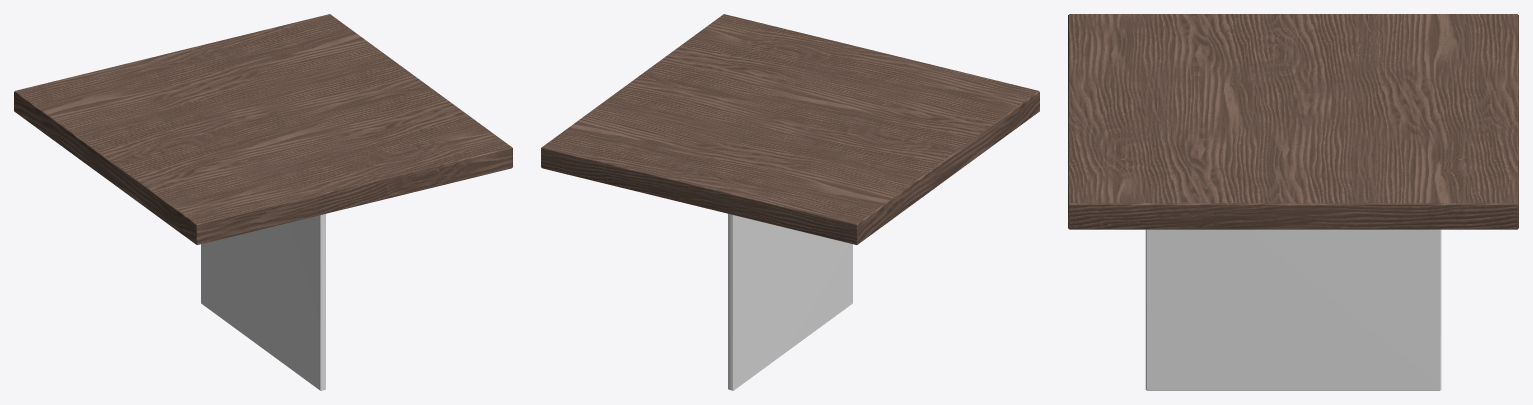
The model's file is kitchen_table_017.fbx.
3 views of the same model, side by side, from view 1: azimuth 30°, elevation 25°; view 2: azimuth 150°, elevation 25°; view 3: azimuth 270°, elevation 25° (orthographic). The views are drawn at different scales.
Parts seen in each view (by area): view 1: kitchen_table_017; view 2: kitchen_table_017; view 3: kitchen_table_017.
Boxes of the visible parts, x1=… form: kitchen_table_017: x1=14, y1=14, x2=512, y2=390; kitchen_table_017: x1=541, y1=14, x2=1039, y2=390; kitchen_table_017: x1=1068, y1=14, x2=1518, y2=390.
Size of the model in its own units: 148 by 148 by 102.
